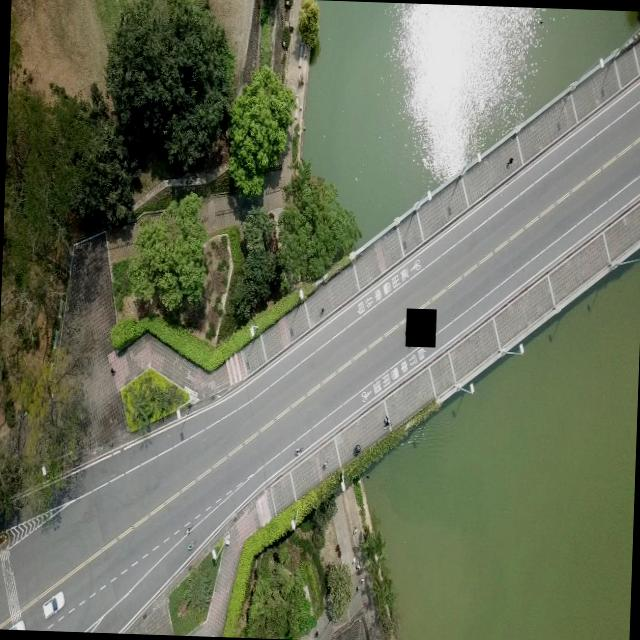car: (42, 588, 64, 618)
